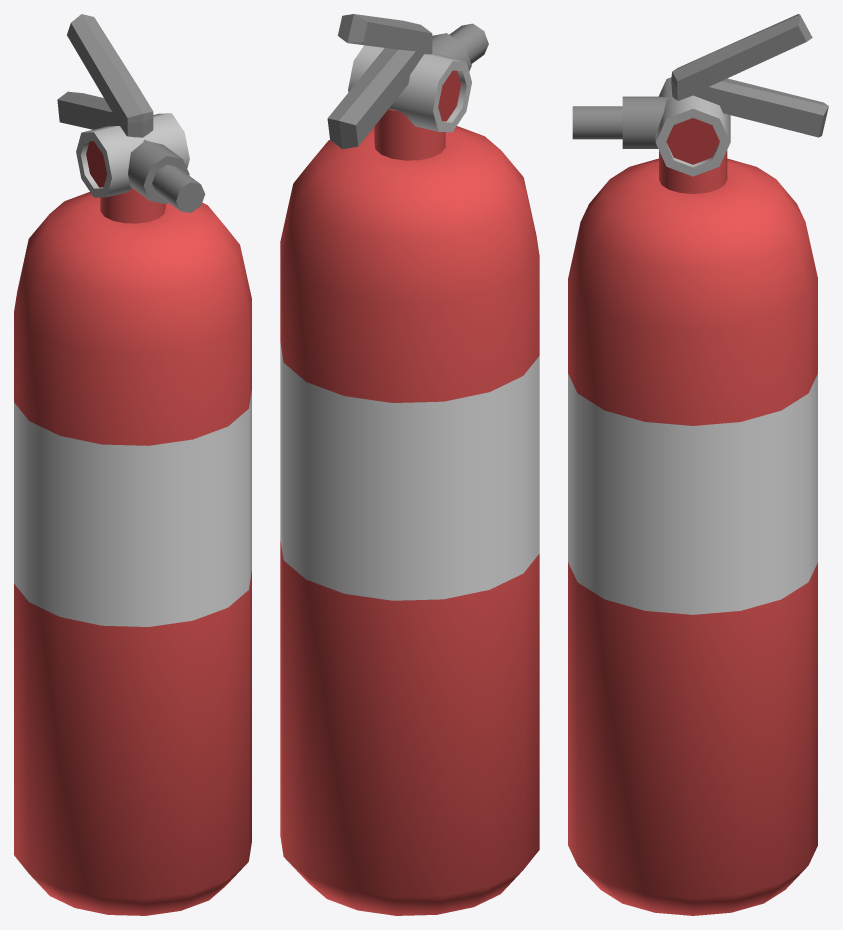
File: Extinguisher.fbx
3 views of the same model, side by side, from view 1: azimuth 30°, elevation 25°; view 2: azimuth 150°, elevation 25°; view 3: azimuth 270°, elevation 25° (orthographic). The views are drawn at different scales.
Parts seen in each view (by area): view 1: Cylinder, Cube, Cylinder.001, Cylinder.002; view 2: Cylinder, Cube, Cylinder.001, Cylinder.002; view 3: Cylinder, Cube, Cylinder.001, Cylinder.002.
Boxes of the visible parts, box(x1,y1,x2,y2) form: Cylinder: box(14, 188, 251, 915); Cube: box(57, 14, 153, 137); Cylinder.001: box(76, 113, 189, 197); Cylinder.002: box(128, 139, 205, 212); Cylinder: box(280, 109, 539, 915); Cube: box(327, 14, 432, 149); Cylinder.001: box(348, 45, 471, 132); Cylinder.002: box(432, 23, 488, 71); Cylinder: box(568, 150, 817, 915); Cube: box(671, 14, 828, 137); Cylinder.001: box(655, 77, 730, 176); Cylinder.002: box(572, 96, 668, 148).
Size of the model in its own units: 40 by 152 by 41.74.
